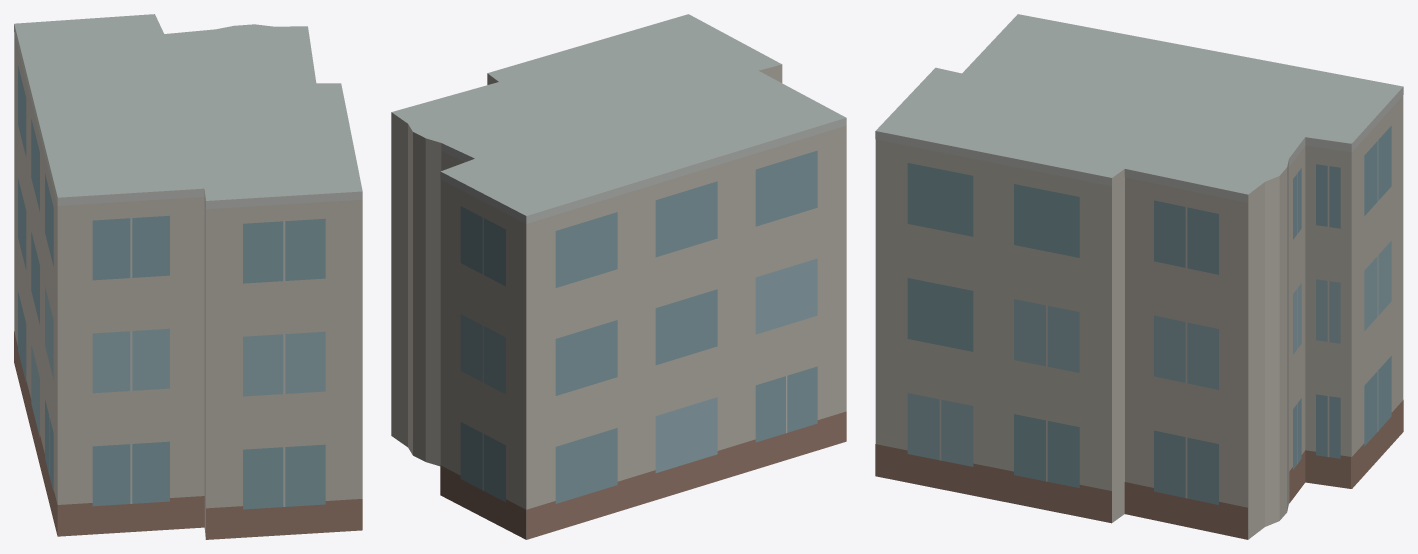
Rendered from survey-upis-32666966.glb.
3 renders of one model, left to right at view 1: azimuth 30°, elevation 25°; view 2: azimuth 150°, elevation 25°; view 3: azimuth 270°, elevation 25°, orthographic. The views are drawn at different scales.
Parts seen in each view (by area): view 1: survey-upis-32666966.tmp; view 2: survey-upis-32666966.tmp; view 3: survey-upis-32666966.tmp.
Part boxes in pixels (box(x1,y1,x2,y2)): survey-upis-32666966.tmp: box(14, 14, 362, 539); survey-upis-32666966.tmp: box(391, 14, 846, 539); survey-upis-32666966.tmp: box(875, 14, 1403, 539).
Size of the model in its own units: 11.34 by 10.1 by 14.01.
